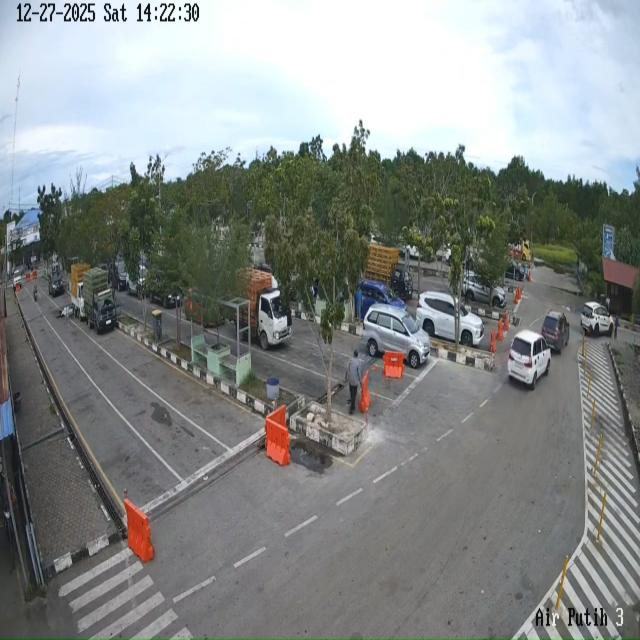Golongan IVA: (363, 304, 430, 369), (416, 291, 484, 347), (508, 330, 551, 390), (360, 280, 406, 318), (462, 271, 507, 308), (541, 310, 570, 354), (581, 302, 614, 336), (48, 272, 64, 298)
Golongan IVB: (239, 268, 292, 350), (82, 267, 117, 334)
